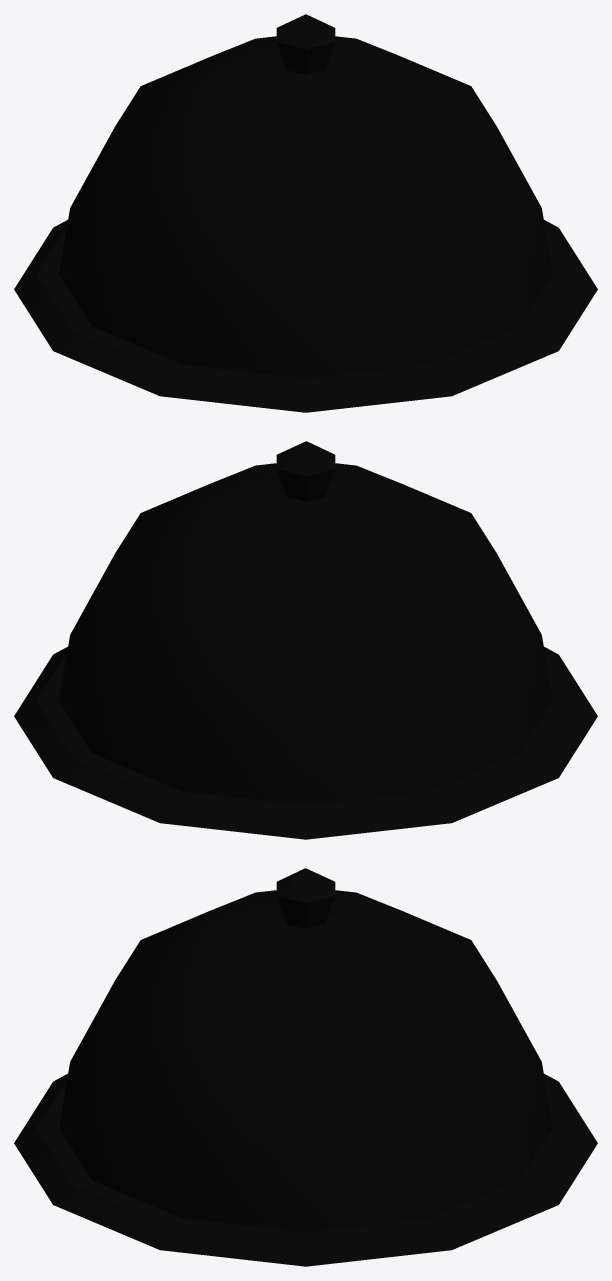
The model's file is SM_platter_cloche.fbx.
3 views of the same model, one above another, from view 1: azimuth 30°, elevation 25°; view 2: azimuth 150°, elevation 25°; view 3: azimuth 270°, elevation 25° (orthographic).
Parts seen in each view (by area): view 1: platter_cloche_lid, platter_cloche; view 2: platter_cloche_lid, platter_cloche; view 3: platter_cloche_lid, platter_cloche.
Part boxes in pixels (x1,y1,x2,y2): platter_cloche_lid: (59,14,552,378); platter_cloche: (14,220,597,412); platter_cloche_lid: (59,441,552,805); platter_cloche: (14,647,597,839); platter_cloche_lid: (59,868,552,1232); platter_cloche: (14,1074,597,1266).
Size of the model in its own units: 0.52 by 0.27 by 0.52.
